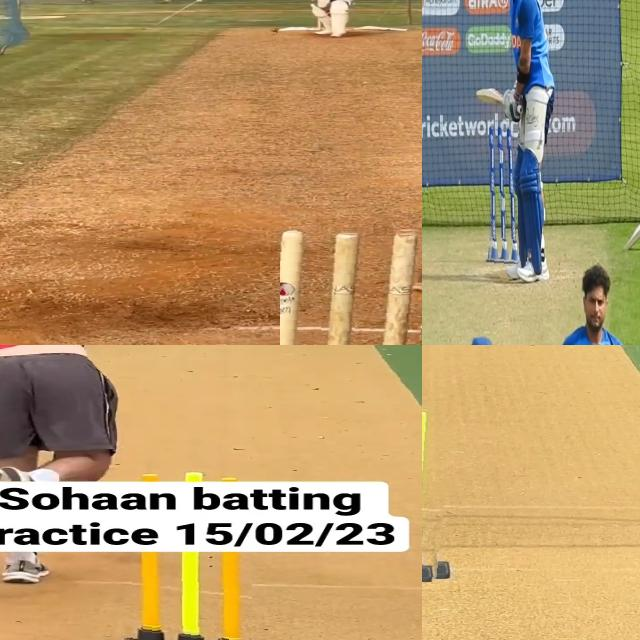Cricket ball: (271, 28, 279, 33)
Stumps: (280, 227, 422, 345), (125, 552, 252, 640), (422, 404, 454, 581), (486, 124, 518, 264)
